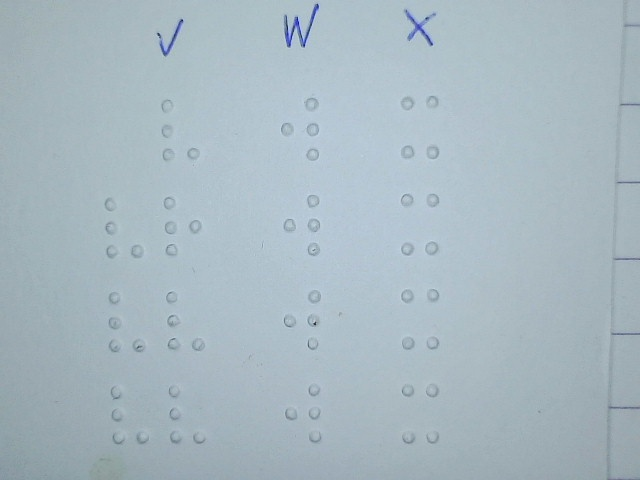V: (160, 97, 202, 163), (103, 194, 145, 260), (165, 287, 207, 353), (166, 380, 208, 446), (109, 382, 151, 448)
W: (279, 95, 321, 161), (280, 191, 322, 257), (281, 287, 323, 353), (281, 380, 323, 446)
X: (400, 93, 442, 159), (399, 190, 441, 256), (399, 285, 441, 351), (400, 380, 442, 446)
